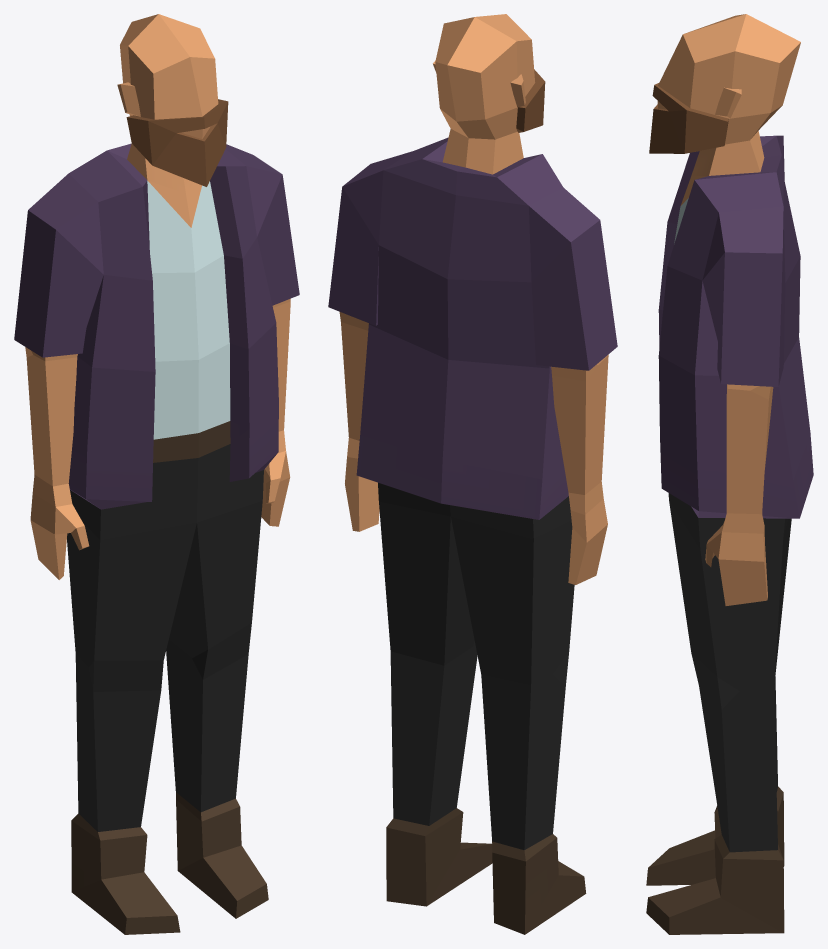
Rendered from people_man-pedestrian-rival.fbx.
The picture shows the model from 3 angles, left to right: view 1: azimuth 30°, elevation 25°; view 2: azimuth 150°, elevation 25°; view 3: azimuth 270°, elevation 25°; orthographic projection.
Parts seen in each view (by area): view 1: people_man_pedestrian_rival; view 2: people_man_pedestrian_rival; view 3: people_man_pedestrian_rival.
Boxes of the visible parts, bbox=[...] form: people_man_pedestrian_rival: bbox=[14, 14, 299, 934]; people_man_pedestrian_rival: bbox=[328, 14, 617, 934]; people_man_pedestrian_rival: bbox=[646, 14, 813, 934].
Size of the model in its own units: 61.5 by 200 by 34.25.
